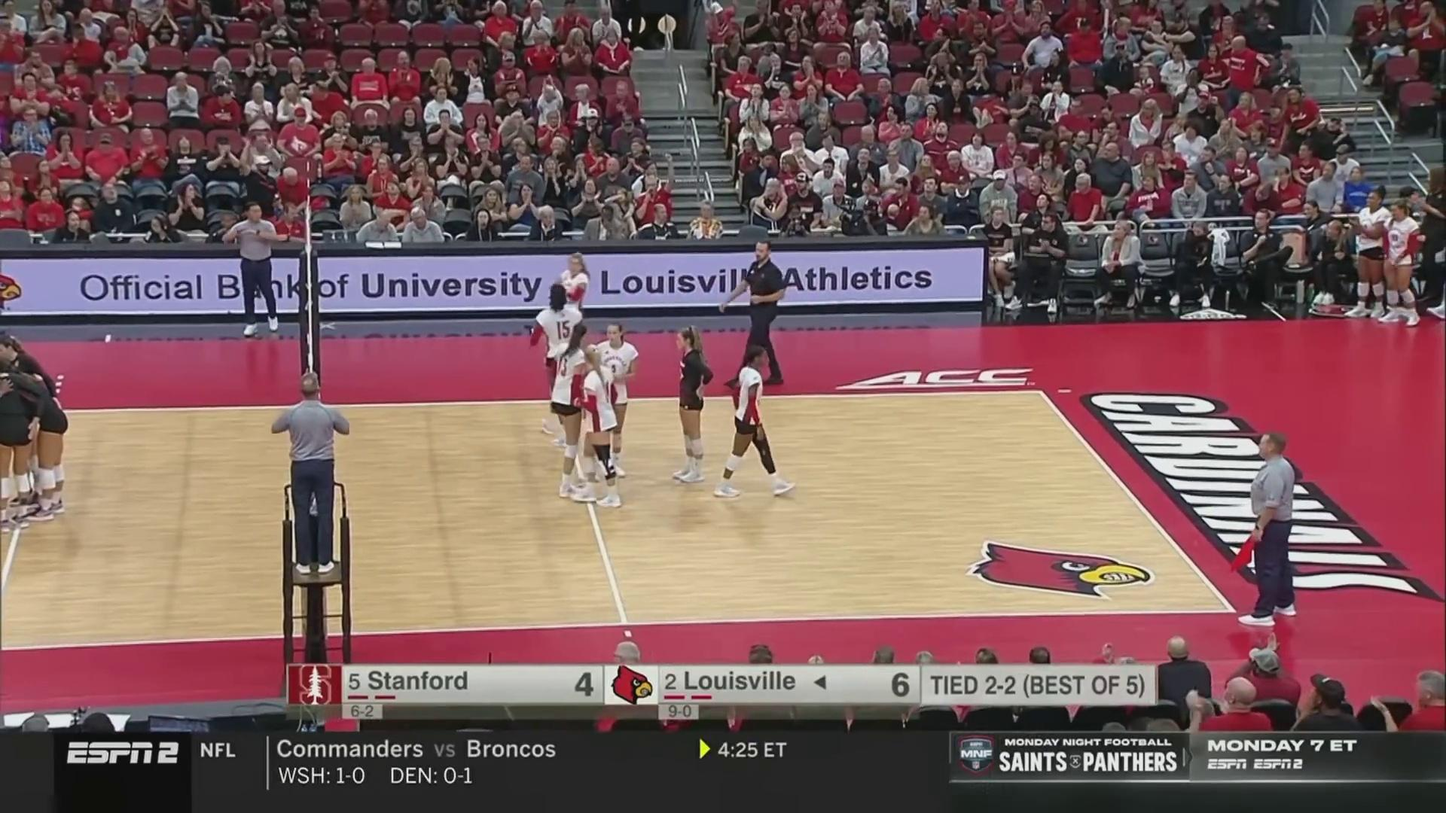player: (717, 348, 798, 496), (0, 364, 68, 521), (0, 334, 61, 505), (527, 286, 587, 452), (584, 324, 642, 486), (551, 323, 599, 501), (580, 345, 626, 511), (672, 322, 715, 485), (0, 363, 38, 525), (554, 252, 591, 388)
refree: (272, 372, 350, 573), (1240, 429, 1299, 628), (226, 202, 282, 336)
